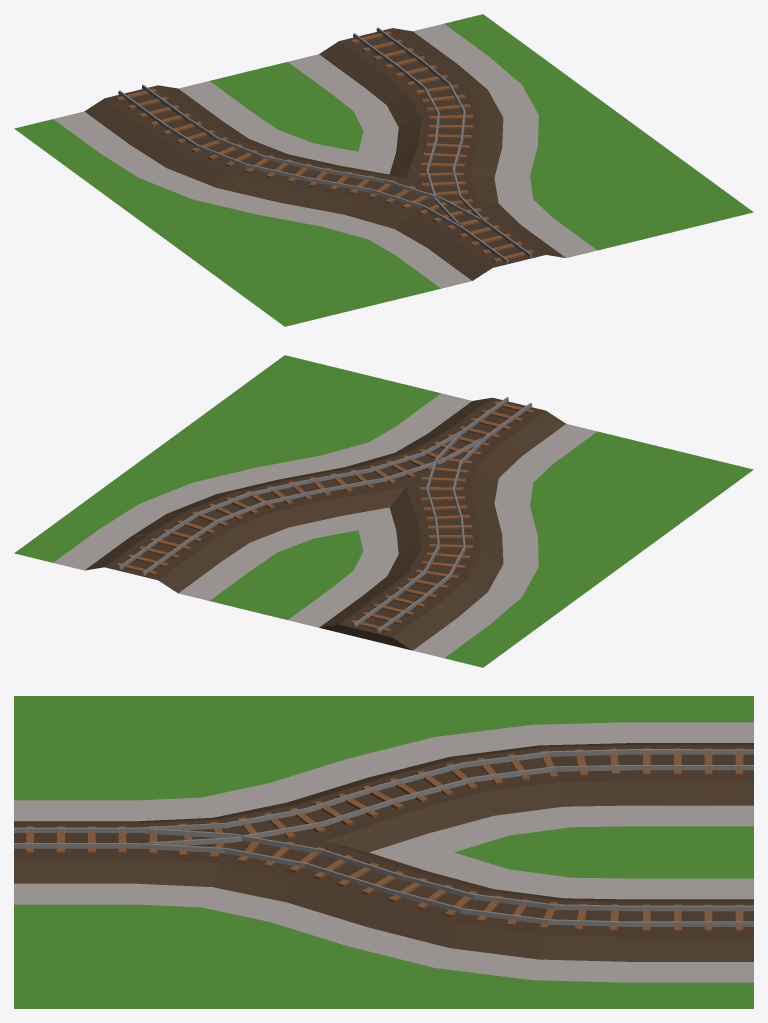
Rendered from tiles-nb_tile-rail-conjunction-nb.fbx.
The picture shows the model from 3 angles, top to bottom: view 1: azimuth 30°, elevation 25°; view 2: azimuth 150°, elevation 25°; view 3: azimuth 270°, elevation 25°; orthographic projection. The views are drawn at different scales.
Parts seen in each view (by area): view 1: tiles_nb_tile_rail_conjunction_nb; view 2: tiles_nb_tile_rail_conjunction_nb; view 3: tiles_nb_tile_rail_conjunction_nb.
Boxes of the visible parts, x1,y1,x2,y2 form: tiles_nb_tile_rail_conjunction_nb: (14,14,753,326); tiles_nb_tile_rail_conjunction_nb: (14,355,753,667); tiles_nb_tile_rail_conjunction_nb: (14,696,753,1008).
Size of the model in its own units: 200 by 4.97 by 200.
